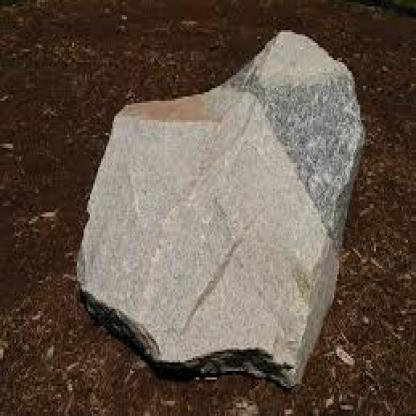Igneous_Diorite: (71, 26, 372, 392)
